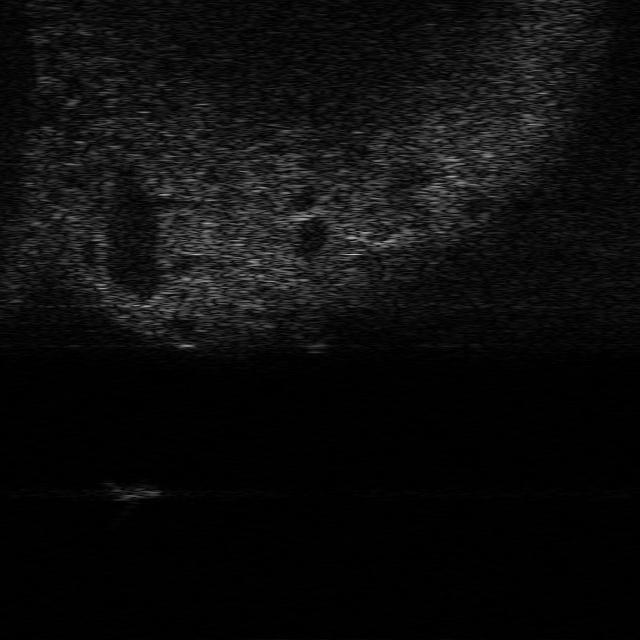cube: (105, 476, 159, 503)
